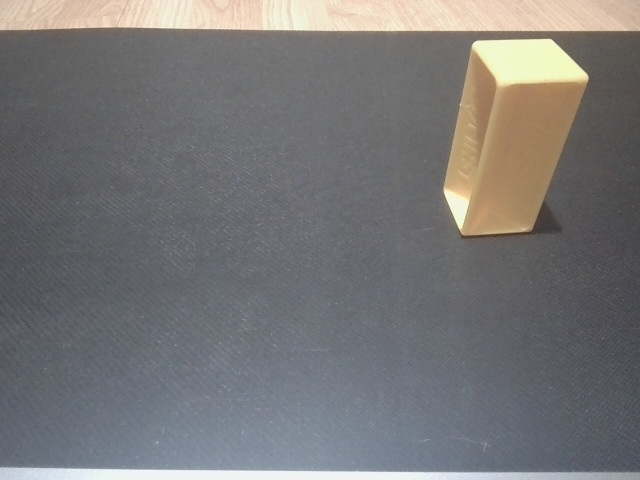YellowSample: (440, 34, 594, 242)
